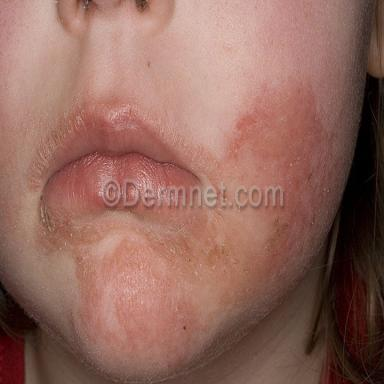eczema: (36, 84, 331, 378), (29, 102, 97, 191)
